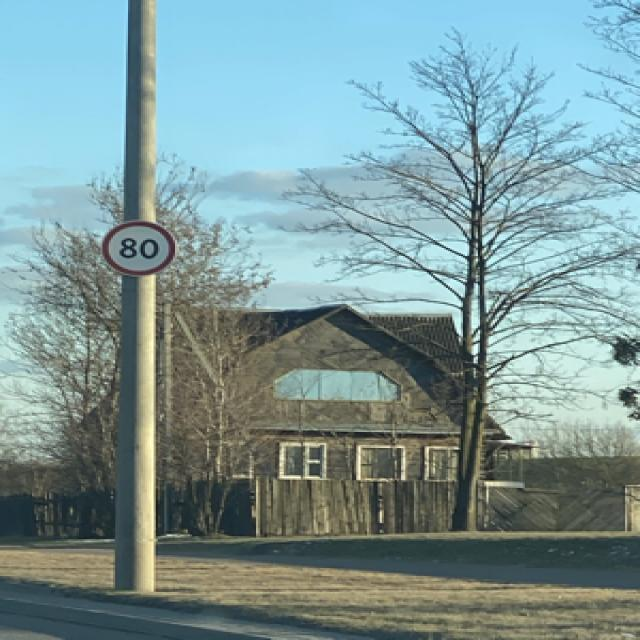speedlimit: (98, 219, 173, 274)
